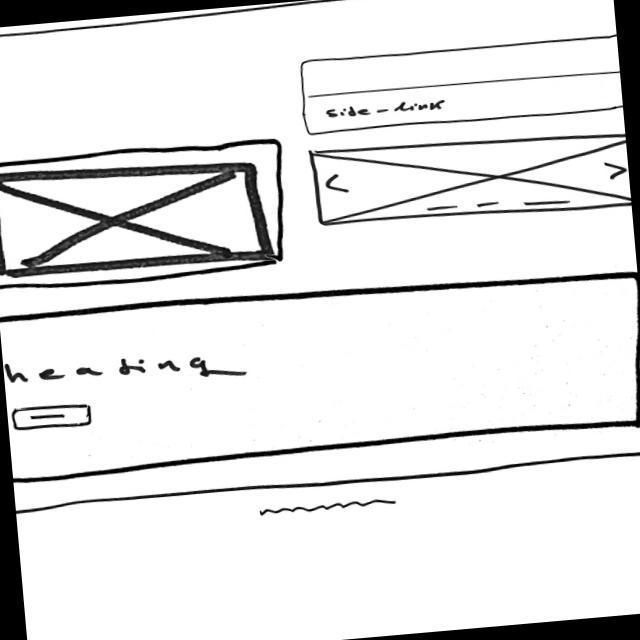container: (1, 260, 640, 484), (1, 136, 295, 296), (296, 33, 624, 139), (1, 1, 612, 40)
icon-button: (11, 402, 95, 433)
image: (308, 123, 632, 234), (1, 150, 272, 282)
label: (4, 343, 248, 397), (322, 98, 448, 121)
text: (255, 496, 402, 521)
